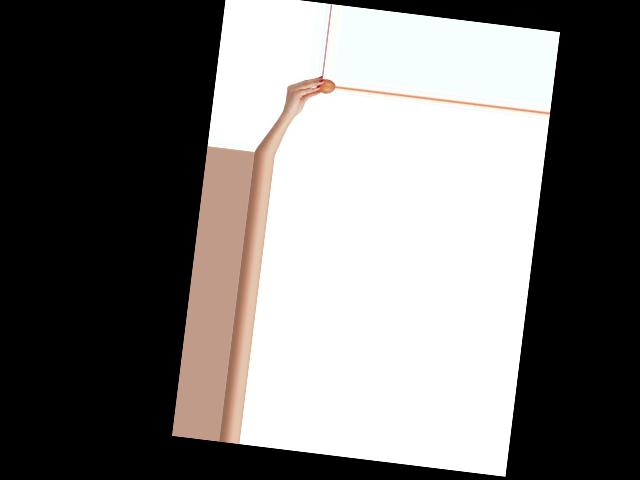egg: (316, 78, 335, 94)
